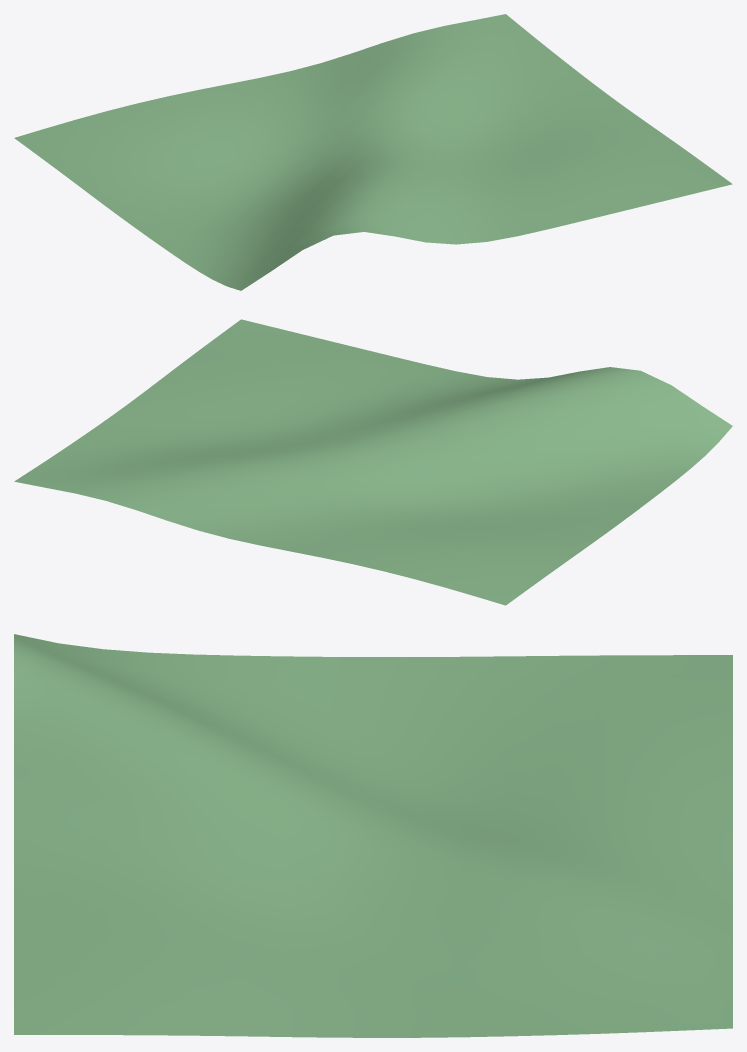
Rendered from terrain-sample-ridge.glb.
The picture shows the model from 3 angles, top to bottom: view 1: azimuth 30°, elevation 25°; view 2: azimuth 150°, elevation 25°; view 3: azimuth 270°, elevation 25°; orthographic projection. The views are drawn at different scales.
Parts seen in each view (by area): view 1: terrain-sample-ridge; view 2: terrain-sample-ridge; view 3: terrain-sample-ridge.
Part boxes in pixels (x1=…): terrain-sample-ridge: x1=14, y1=14, x2=732, y2=290; terrain-sample-ridge: x1=14, y1=319, x2=732, y2=605; terrain-sample-ridge: x1=14, y1=634, x2=732, y2=1037.
Bounding box in the file's own units: 200 × 21.53 × 160.
